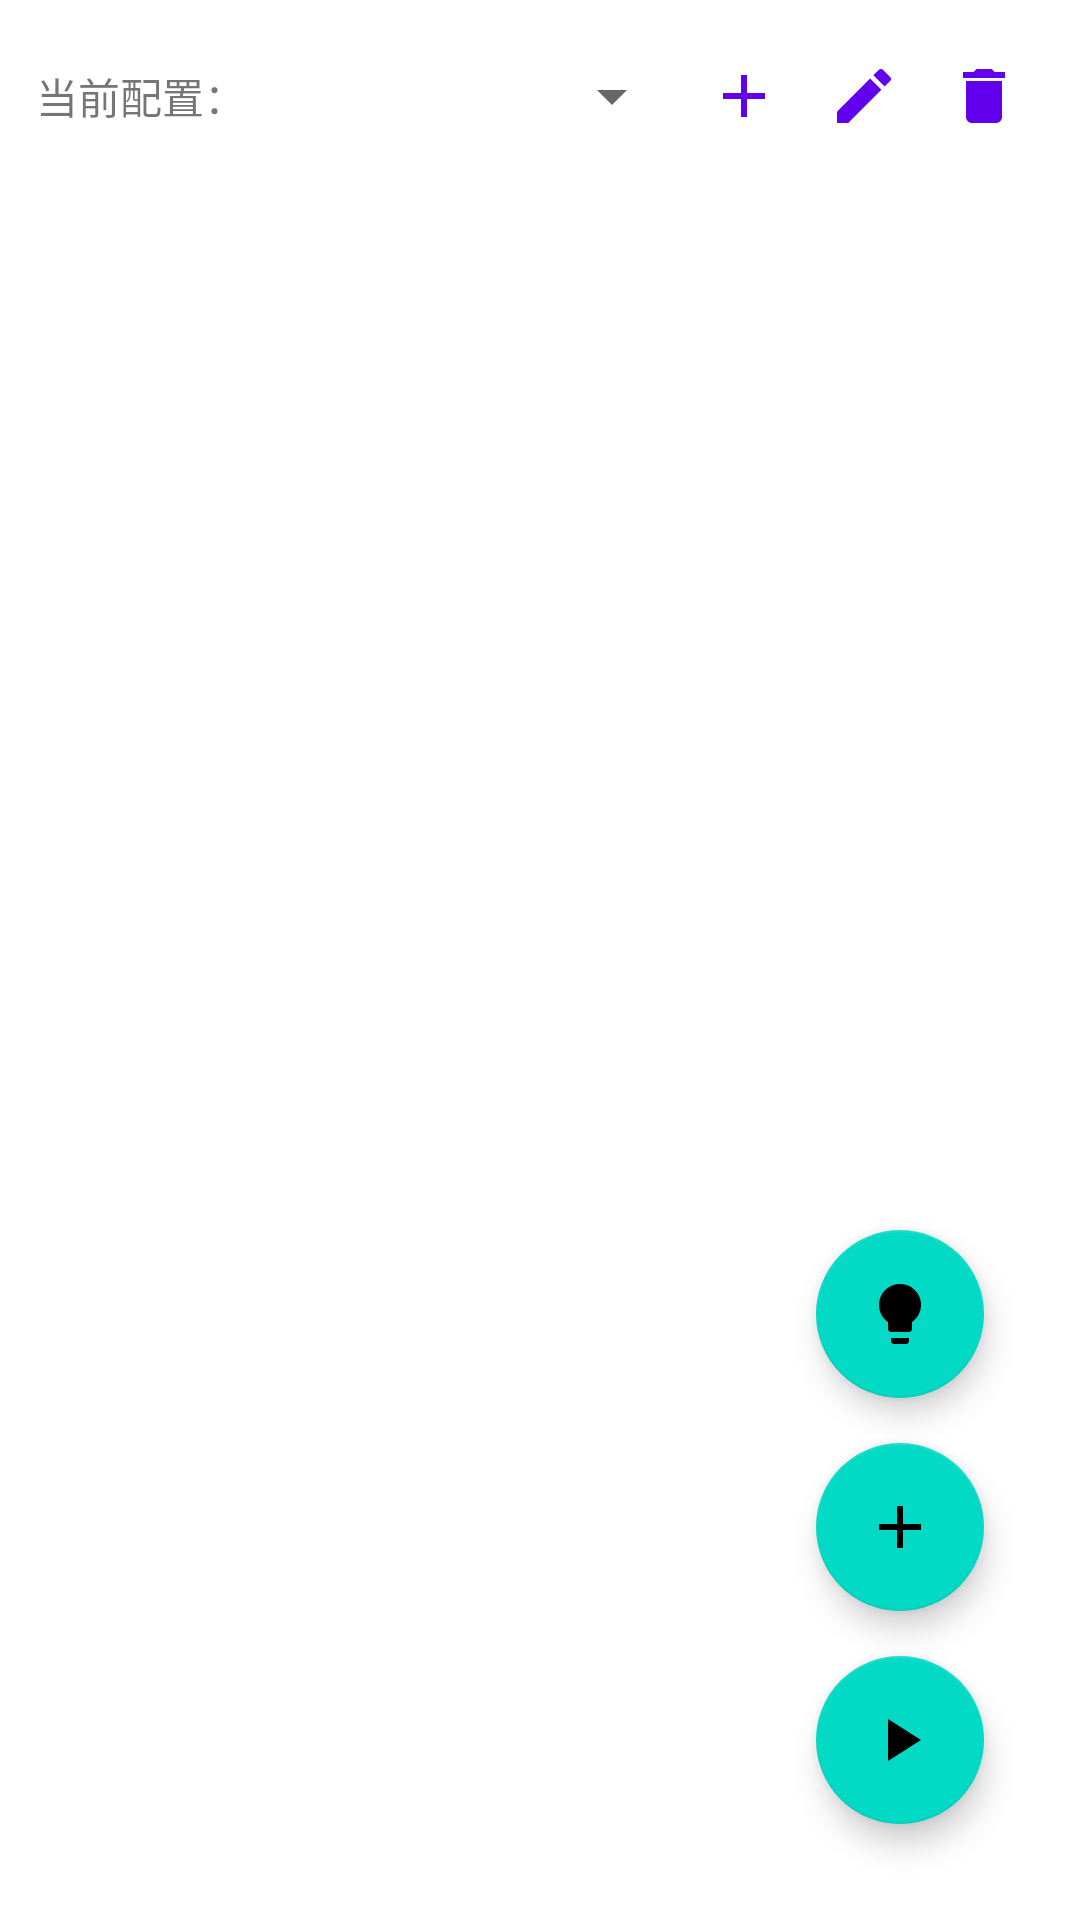

Where to tap for icons on this 1080x1920 app screen, as (x,y):
add: (744,96), (900,1527)
delete: (984,96)
edit: (864,96)
lightbulb: (900,1314)
run stop: (900,1740)
